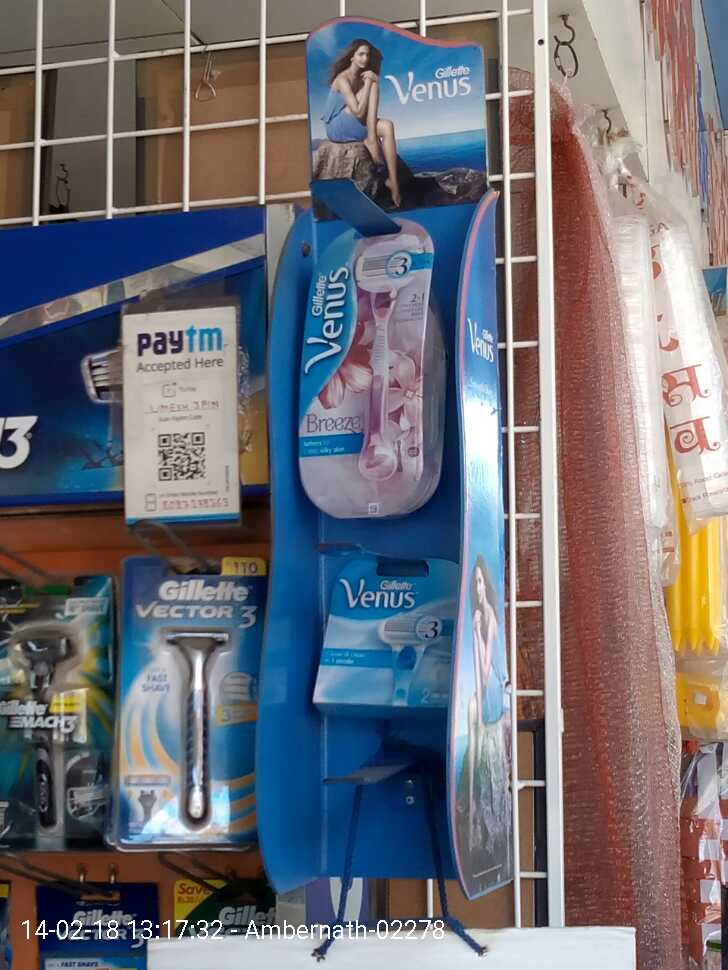beauty: (293, 230, 448, 513), (148, 603, 246, 830), (309, 568, 463, 712), (7, 619, 103, 847)
